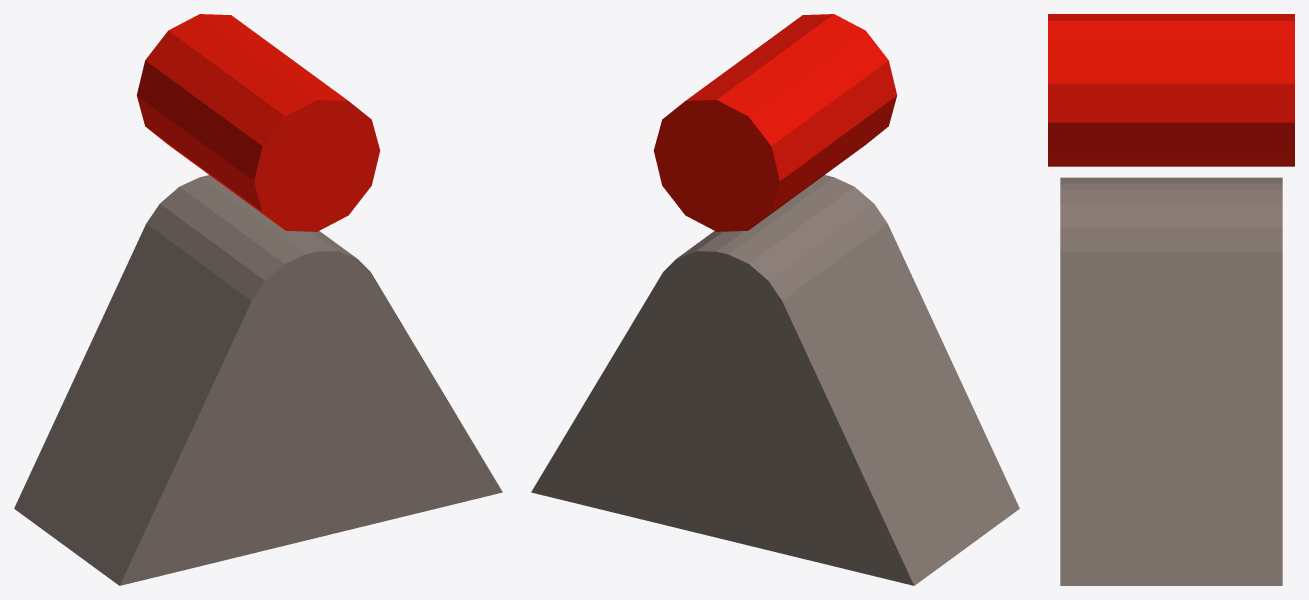
File: csuklo.fbx
The picture shows the model from 3 angles, left to right: view 1: azimuth 30°, elevation 25°; view 2: azimuth 150°, elevation 25°; view 3: azimuth 270°, elevation 25°; orthographic projection. The views are drawn at different scales.
Visible parts, largest first — view 1: Kornyezet, ForgoResz; view 2: Kornyezet, ForgoResz; view 3: Kornyezet, ForgoResz.
Part boxes in pixels (x1,y1,x2,y2): Kornyezet: [14, 175, 502, 585]; ForgoResz: [136, 14, 380, 231]; Kornyezet: [531, 175, 1019, 585]; ForgoResz: [653, 14, 897, 231]; Kornyezet: [1060, 177, 1282, 585]; ForgoResz: [1048, 14, 1294, 166].
Size of the model in its own units: 12.15 by 13.44 by 6.44.
